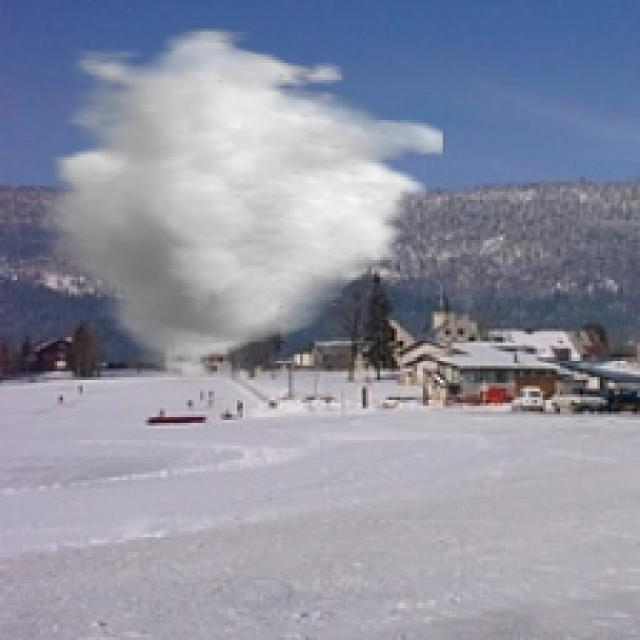smoke: (37, 29, 446, 388)
